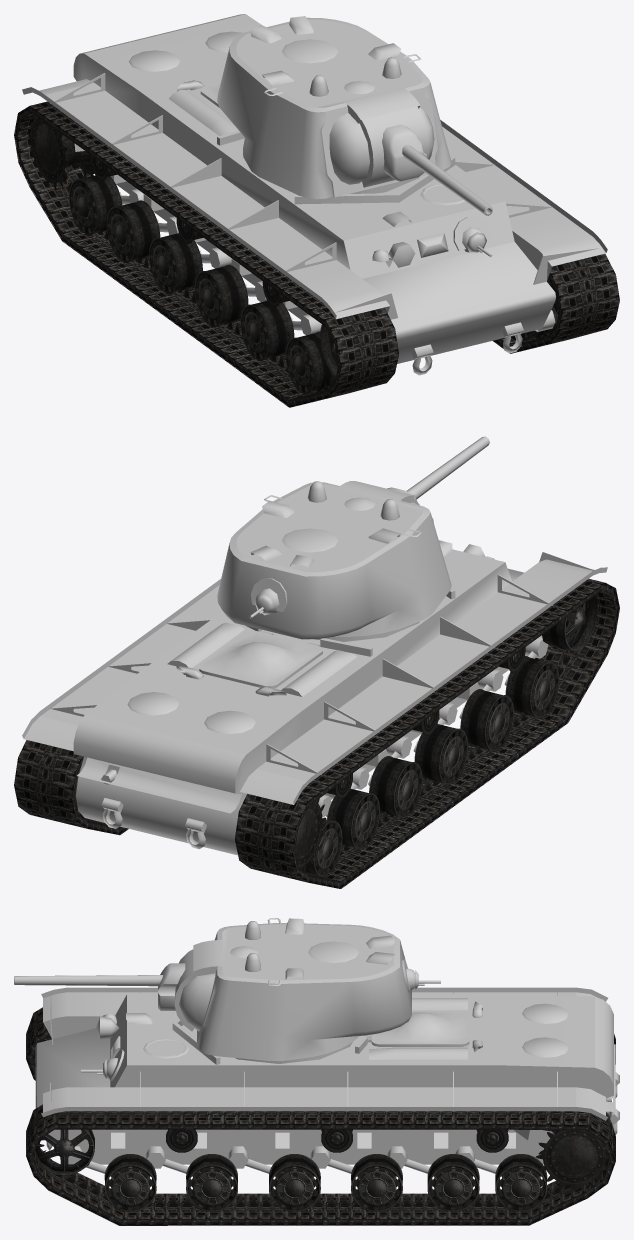
The model's file is KV1_model_track.FBX.
3 views of the same model, one above another, from view 1: azimuth 30°, elevation 25°; view 2: azimuth 150°, elevation 25°; view 3: azimuth 270°, elevation 25° (orthographic). The views are drawn at different scales.
Parts seen in each view (by area): view 1: body, Righttrack, turret, Lefttrack, cannon; view 2: body, Righttrack, turret, Lefttrack, cannon; view 3: body, Lefttrack, turret, cannon, Righttrack.
Boxes of the visible parts, box(x1,y1,x2,y2) form: body: box(22, 14, 607, 375); Righttrack: box(14, 101, 398, 407); turret: box(217, 16, 451, 199); Lefttrack: box(493, 253, 619, 353); cannon: box(359, 106, 492, 215); body: box(22, 540, 607, 855); Righttrack: box(235, 579, 619, 888); turret: box(217, 481, 451, 641); Lefttrack: box(14, 740, 128, 835); cannon: box(387, 436, 489, 505); body: box(35, 987, 619, 1179); Lefttrack: box(26, 1104, 615, 1225); turret: box(179, 918, 440, 1063); cannon: box(14, 949, 196, 1031); Righttrack: box(26, 1007, 615, 1080).
Size of the model in its own units: 3.23 by 2.79 by 6.73.
